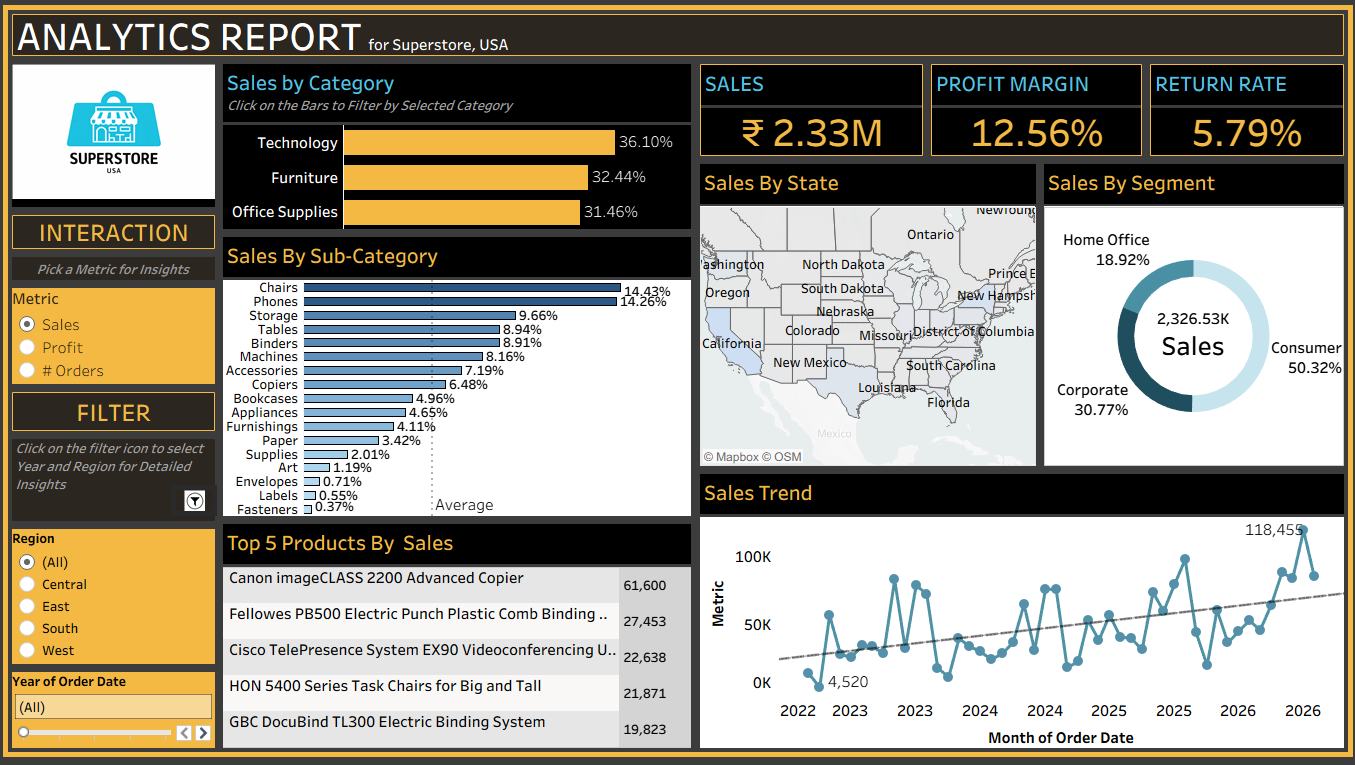

This screenshot's page, from the dashboard's own definition file:
{"tool":"tableau","page":{"name":"Dashboard ","canvas":[1366,768],"ordinal":0},"visuals":[{"type":"text","box":[13,13,1340,50.2]},{"type":"image","param":"Image/superstore.png","box":[13,63.2,211.2,150.9]},{"type":"worksheet","title":"A7_CategoryChart","mark":"Automatic","rows":["Category"],"cols":["Calculation_1635821158993931"],"box":[224.2,63.2,476.5,172.9]},{"type":"worksheet","title":"A7_KPI_Sales","mark":"Automatic","box":[700.7,63.2,231.2,100]},{"type":"worksheet","title":"A7_KPI_ProfitMargin","mark":"Automatic","box":[932,63.2,219.3,100]},{"type":"worksheet","title":"A7_KPI_ReturnRate","mark":"Automatic","box":[1151.3,63.2,201.7,100]},{"type":"worksheet","title":"A7_StateMap","mark":"Automatic","box":[700.7,163.2,344.4,310.3]},{"type":"worksheet","title":"A7_SegmentChart","mark":"Pie","rows":["Calculation_0416464149217284","Calculation_0416464150016006"],"box":[1045.1,163.2,307.9,310.3]},{"type":"text","box":[13,214.2,211.2,41.8]},{"type":"worksheet","title":"A7_Selected Metric By Sub-category","mark":"Bar","rows":["Sub-Category"],"cols":["Calculation_1635821158993931"],"box":[224.2,236.1,476.5,287.1]},{"type":"text","box":[13,256,211.2,30.7]},{"type":"parameter","param":"[Parameters].[Parameter 1635821158645770]","box":[13,286.7,211.2,104.7]},{"type":"text","box":[13,391.4,211.2,46.8]},{"type":"text","box":[13,438.3,211.2,89.9]},{"type":"worksheet","title":"A7_Trendlines","mark":"Line","rows":["Calculation_1635821158993931","Calculation_1635821158993931"],"cols":["Order Date"],"box":[700.7,473.5,652.3,281.5]},{"type":"dashboard-object","box":[176,488,46,31]},{"type":"worksheet","title":"A7_Top_5_Products","mark":"Text","rows":["Product Name"],"box":[224.2,523.4,476.5,231.6]},{"type":"filter","title":"A7_CategoryChart","param":"[federated.14evr9t0zggkob15lf9s318x0rny].[none:Region:nk]","box":[13,528.2,211.2,142.8]},{"type":"filter","title":"A7_CategoryChart","param":"[federated.14evr9t0zggkob15lf9s318x0rny].[yr:Order Date:ok]","box":[13,671,211.2,84]}]}

Visuals, with their boxes in screenshot pixels (x1, y1, x2, y2), scaled from the page's 1366x768 canvas onto the 1355x765 screenshot:
text: (x1=13, y1=13, x2=1342, y2=63)
image: (x1=13, y1=63, x2=222, y2=213)
"A7_CategoryChart" worksheet: (x1=222, y1=63, x2=695, y2=235)
"A7_KPI_Sales" worksheet: (x1=695, y1=63, x2=924, y2=163)
"A7_KPI_ProfitMargin" worksheet: (x1=924, y1=63, x2=1142, y2=163)
"A7_KPI_ReturnRate" worksheet: (x1=1142, y1=63, x2=1342, y2=163)
"A7_StateMap" worksheet: (x1=695, y1=163, x2=1037, y2=472)
"A7_SegmentChart" worksheet (Pie marks): (x1=1037, y1=163, x2=1342, y2=472)
text: (x1=13, y1=213, x2=222, y2=255)
"A7_Selected Metric By Sub-category" worksheet (Bar marks): (x1=222, y1=235, x2=695, y2=521)
text: (x1=13, y1=255, x2=222, y2=286)
parameter: (x1=13, y1=286, x2=222, y2=390)
text: (x1=13, y1=390, x2=222, y2=436)
text: (x1=13, y1=437, x2=222, y2=526)
"A7_Trendlines" worksheet (Line marks): (x1=695, y1=472, x2=1342, y2=752)
dashboard-object: (x1=175, y1=486, x2=220, y2=517)
"A7_Top_5_Products" worksheet (Text marks): (x1=222, y1=521, x2=695, y2=752)
"A7_CategoryChart" filter: (x1=13, y1=526, x2=222, y2=668)
"A7_CategoryChart" filter: (x1=13, y1=668, x2=222, y2=752)
